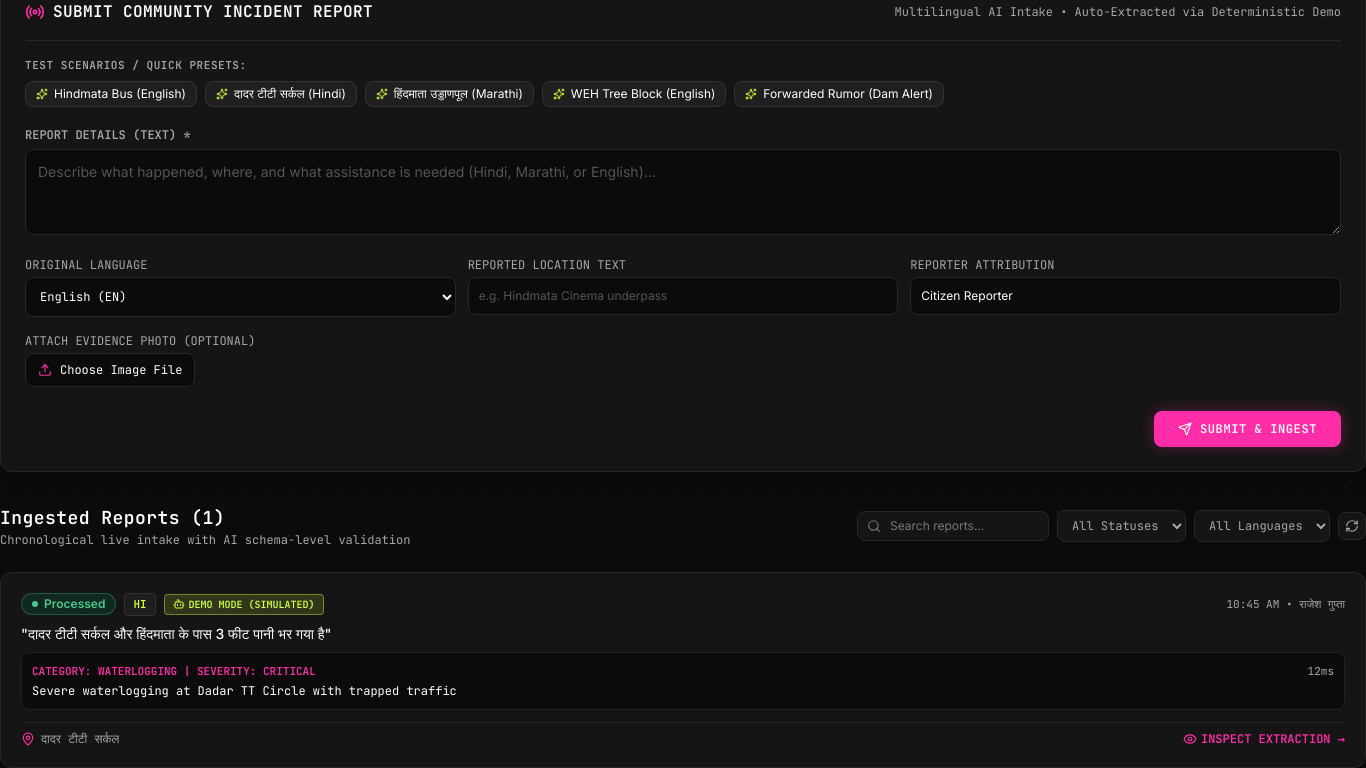
Test: Phase 3 ReportsView Component › supports retry extraction with loading state and aria-live announcements
The image size is (1366, 768).
(page scrolled)
Note: Open detail modal
What coordinates should you click on to do the following:
click the text "INSPECT EXTRACTION →"
I would click on:
 (1264, 738)
Its box is [1183,730,1345,746].
(page scrolled)
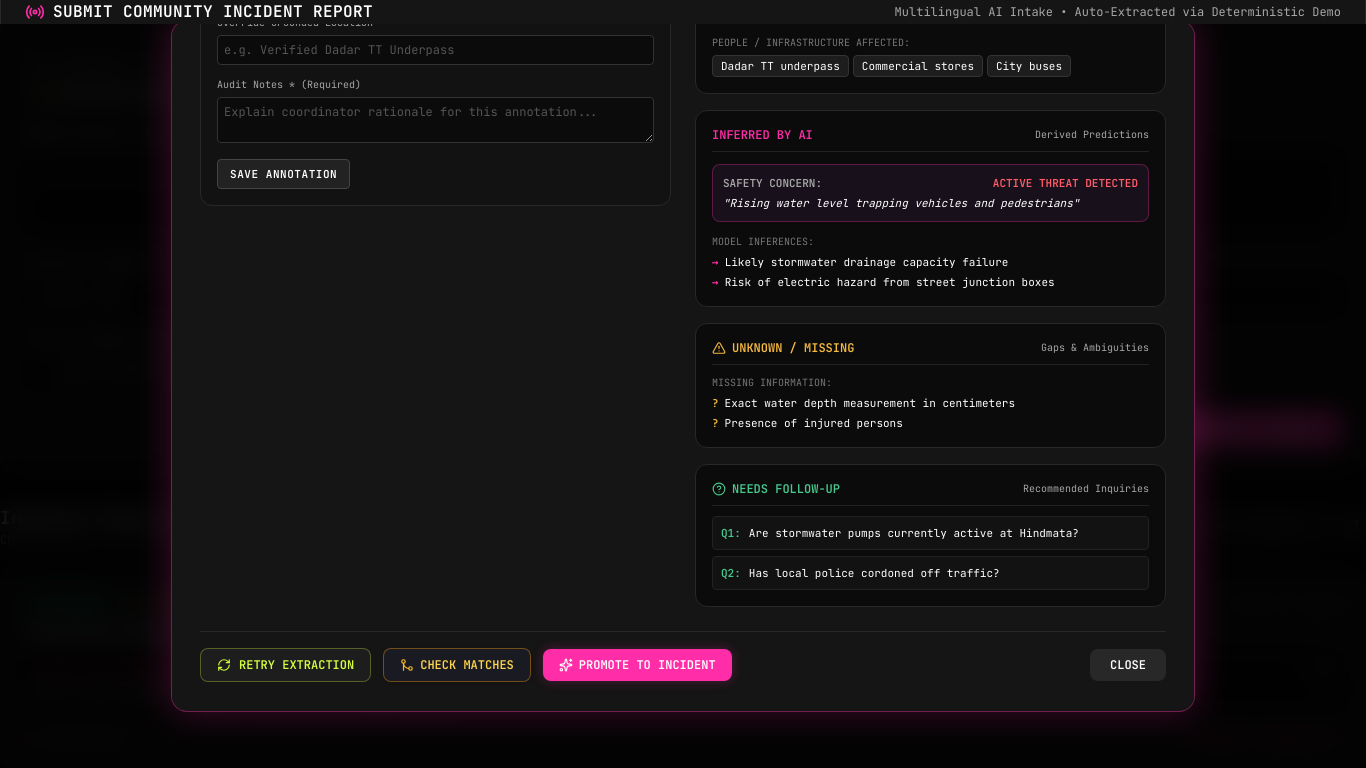
Expected: the dialog is shown
What coordinates should you click on to do the following:
click the button with test id "retry-button"
I would click on:
 (286, 665)
Its box is [200,648,371,682].
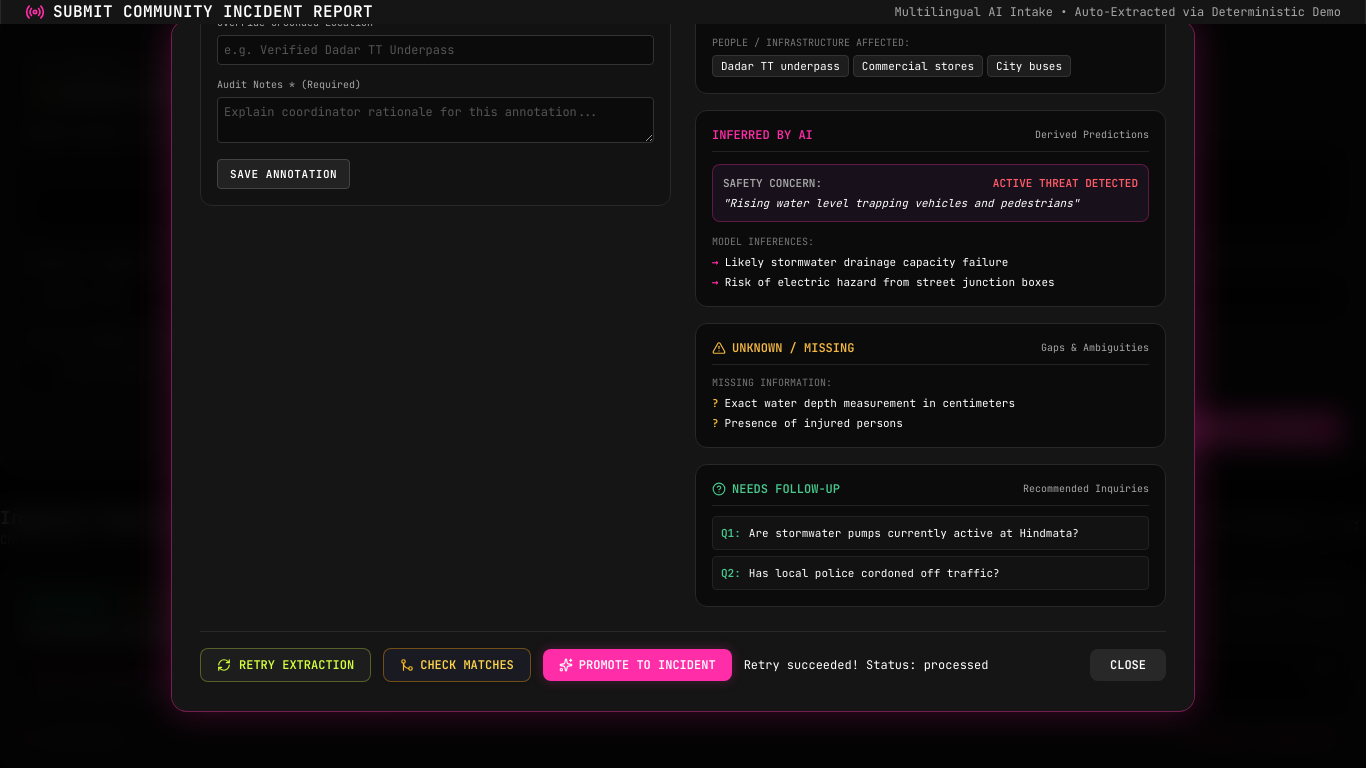
Expected: the text "Retry succeeded! Status: processed" is shown, [744,657,988,673]
